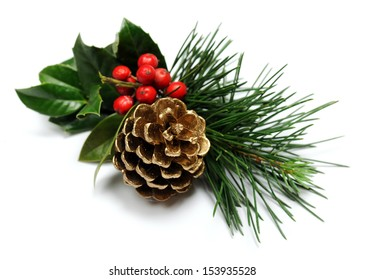Pc: (111, 98, 211, 204)
